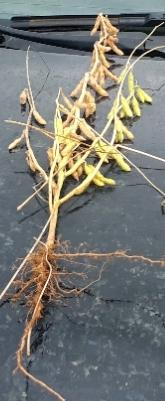soja: (107, 146, 131, 173), (66, 73, 88, 98), (87, 74, 109, 99), (115, 92, 133, 118), (118, 116, 137, 140), (8, 129, 27, 152), (84, 167, 106, 186), (28, 105, 47, 126), (136, 83, 154, 105), (79, 120, 96, 141), (66, 156, 79, 183), (57, 142, 83, 155), (109, 37, 125, 57), (103, 67, 121, 84), (98, 50, 114, 69), (22, 156, 39, 173), (112, 124, 126, 144), (96, 172, 116, 186), (90, 13, 101, 38), (61, 94, 78, 110), (107, 15, 121, 34), (132, 96, 143, 119), (86, 89, 97, 112), (54, 118, 65, 139), (95, 146, 109, 161), (20, 87, 31, 105), (97, 43, 113, 53), (72, 101, 94, 108), (48, 148, 55, 168), (91, 54, 97, 69), (130, 72, 134, 93)
